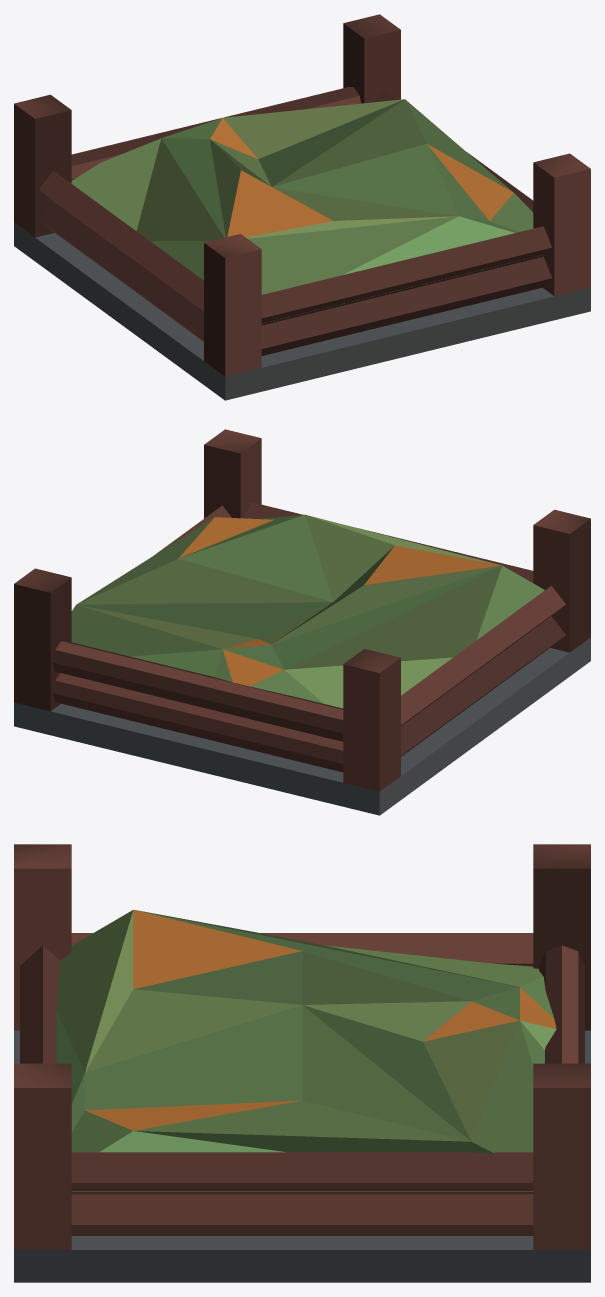
File: Prop_PlanterDLOD1.fbx
The picture shows the model from 3 angles, top to bottom: view 1: azimuth 30°, elevation 25°; view 2: azimuth 150°, elevation 25°; view 3: azimuth 270°, elevation 25°; orthographic projection. The views are drawn at different scales.
Parts seen in each view (by area): view 1: Prop_PlanterDLOD1; view 2: Prop_PlanterDLOD1; view 3: Prop_PlanterDLOD1.
Boxes of the visible parts, x1,y1,x2,y2 form: Prop_PlanterDLOD1: (14, 14, 590, 400); Prop_PlanterDLOD1: (14, 429, 590, 815); Prop_PlanterDLOD1: (14, 844, 590, 1282).
Bounding box in the file's own units: 200 × 74.45 × 200.
